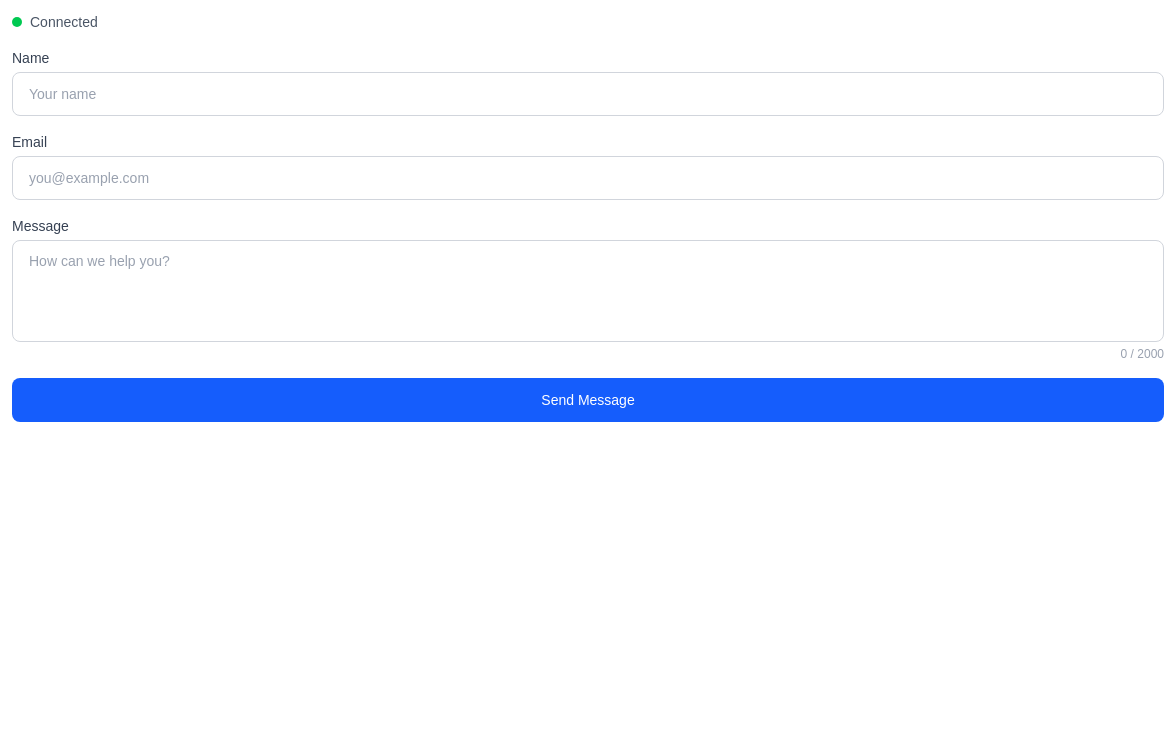
Test: Error recovery › shows error banner with retry button on network error
This screenshot has width=1176, height=732.
Expected: the text "Connected" is shown, [30,12,98,32]
Type "Ali" into the field labelled "Name" at (588, 94), box [12,72,1164,116]
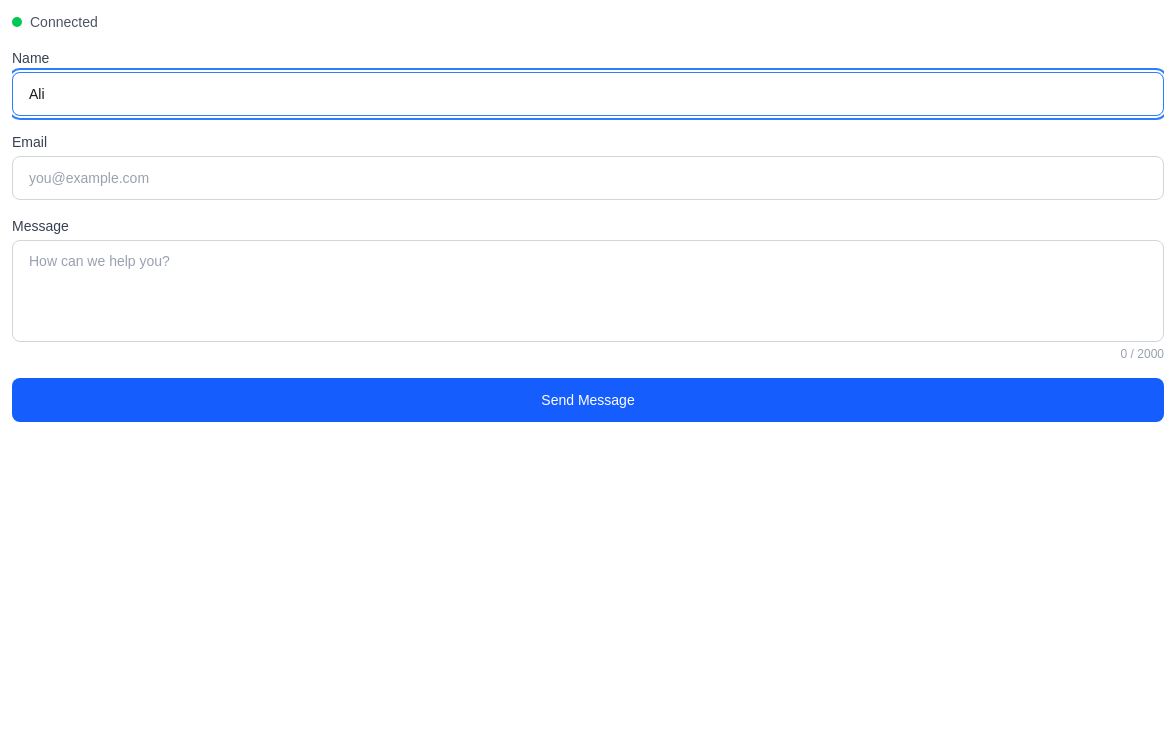
Type "ali@test.com" into the field labelled "Email" at (588, 178), box [12,156,1164,200]
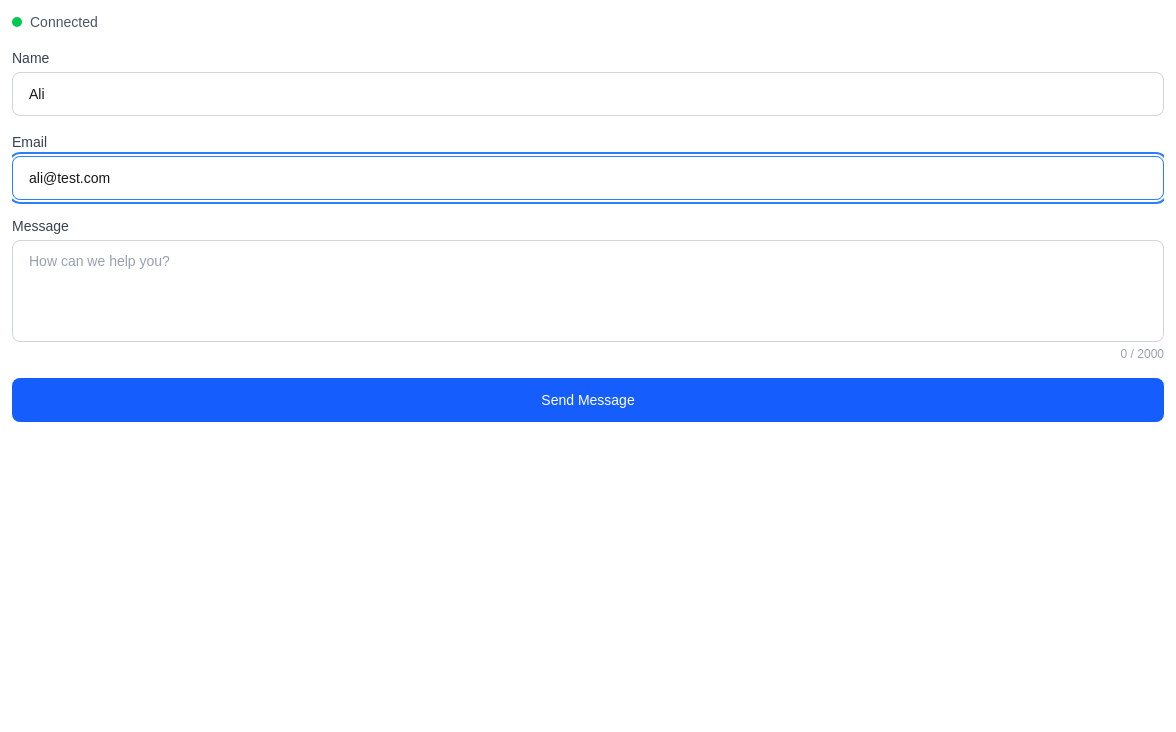
Type "Help" into the text box labelled "Message" at (588, 291), box [12,240,1164,342]
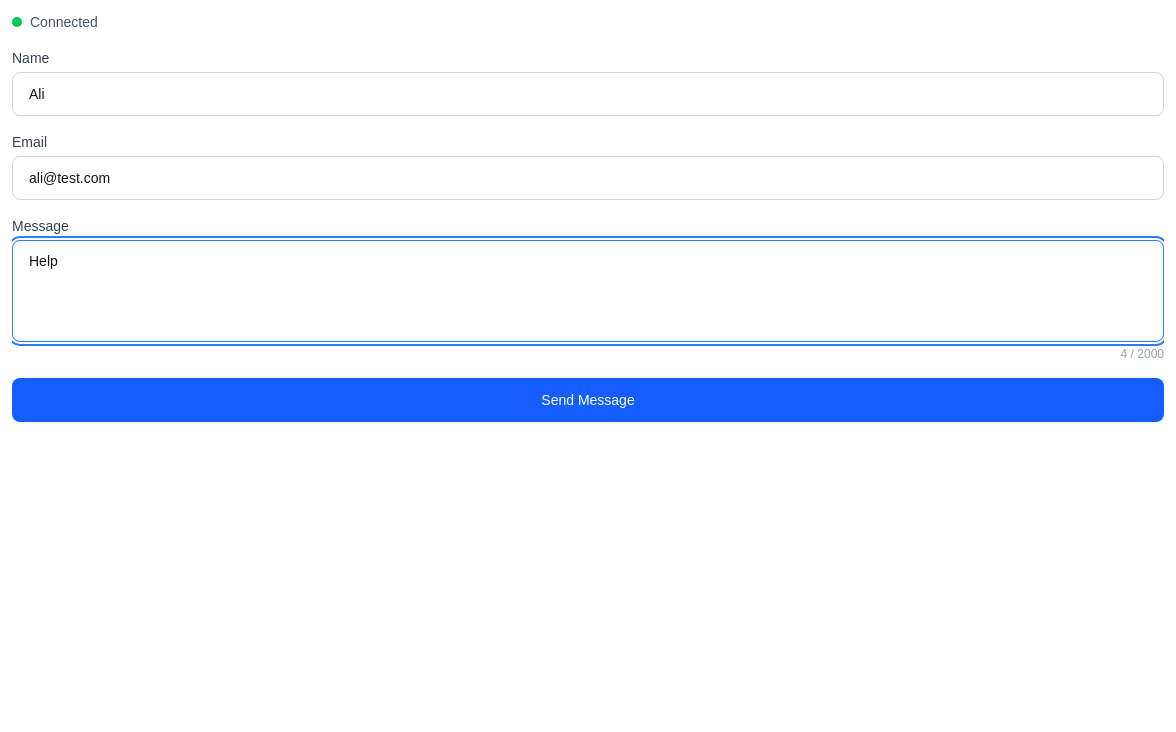
Click the button "Send Message" at (588, 400), box [12,378,1164,422]
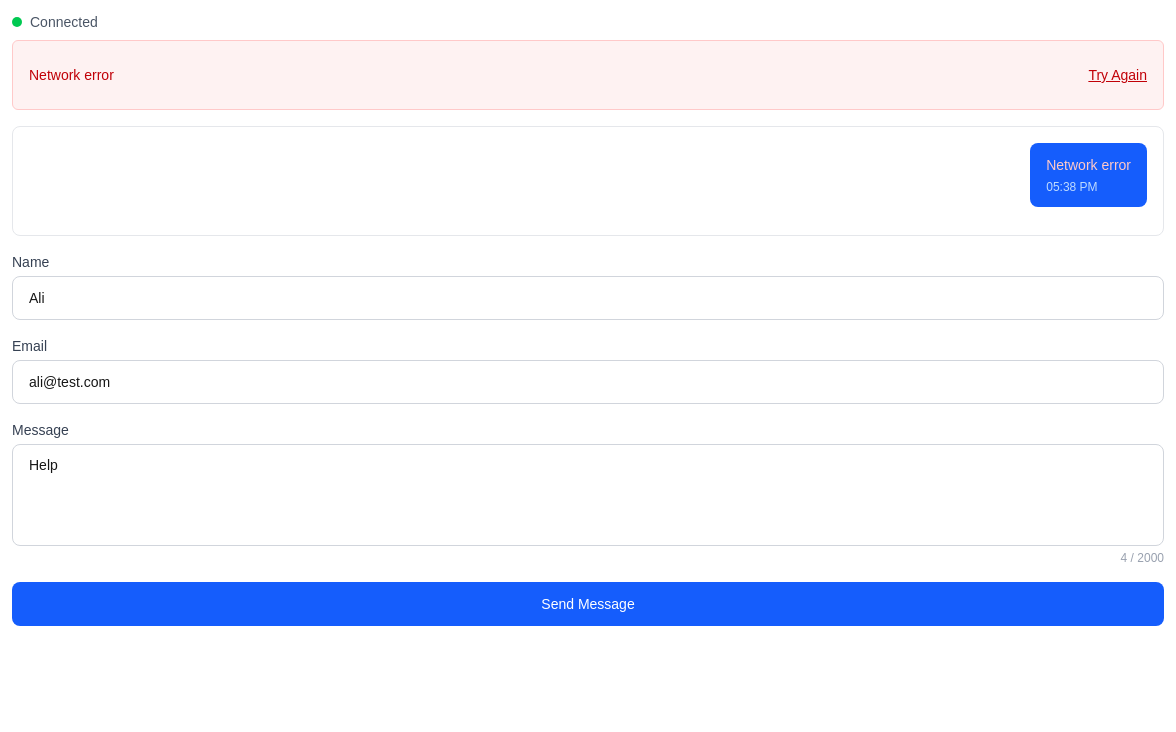
Now the button "Try Again" is shown, box [1088,53,1147,97]
